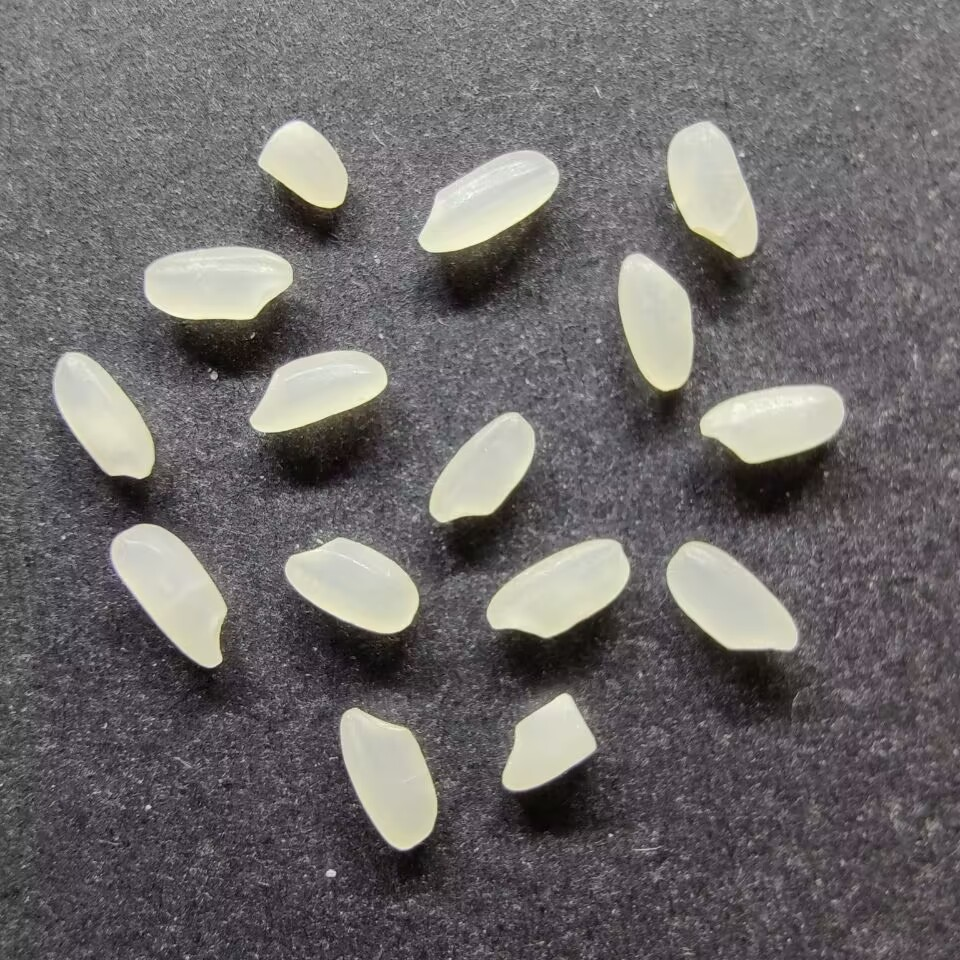broken: (500, 691, 596, 792), (256, 118, 349, 209)
rice: (109, 522, 228, 670), (665, 541, 799, 653), (417, 148, 558, 253), (485, 537, 630, 639), (338, 707, 438, 851), (283, 536, 419, 635), (51, 352, 155, 480), (665, 120, 759, 260), (428, 410, 535, 523), (698, 383, 845, 464), (143, 245, 293, 323), (248, 350, 387, 433), (616, 252, 695, 391)
